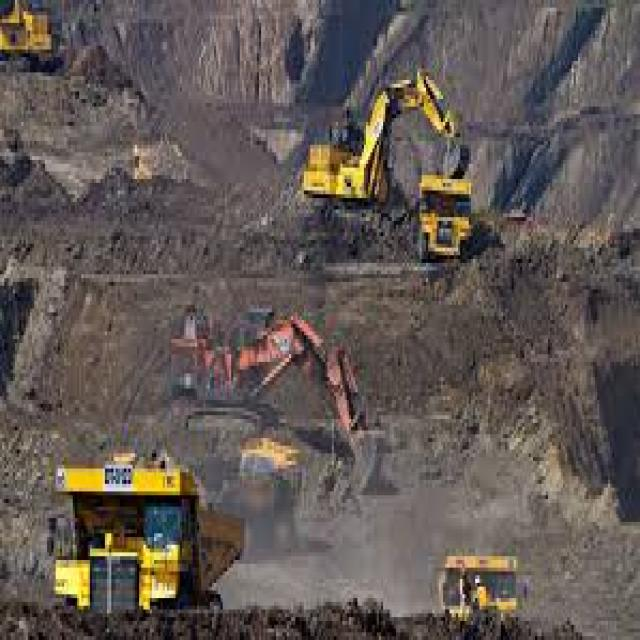dump_truck: (45, 427, 265, 636)
